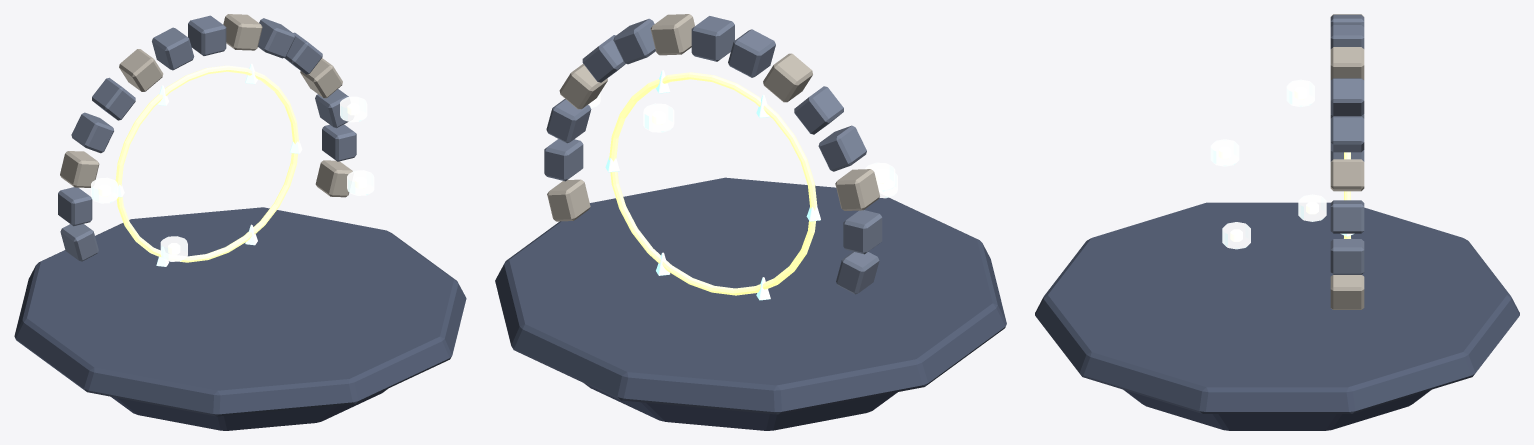
The model's file is dream_crescent_arch.glb.
The picture shows the model from 3 angles, left to right: view 1: azimuth 30°, elevation 25°; view 2: azimuth 150°, elevation 25°; view 3: azimuth 270°, elevation 25°; orthographic projection. The views are drawn at different scales.
Visible parts, largest first — view 1: DreamArchRoot_Merged, CrescentArch_Merged, DreamRing_Merged; view 2: DreamArchRoot_Merged, CrescentArch_Merged, DreamRing_Merged; view 3: DreamArchRoot_Merged, CrescentArch_Merged.
Part boxes in pixels (x1,y1,x2,y2): DreamArchRoot_Merged: (14, 96, 466, 430); CrescentArch_Merged: (58, 14, 356, 261); DreamRing_Merged: (115, 63, 302, 266); DreamArchRoot_Merged: (495, 92, 1006, 430); CrescentArch_Merged: (544, 14, 882, 294); DreamRing_Merged: (605, 70, 820, 300); DreamArchRoot_Merged: (1035, 79, 1519, 430); CrescentArch_Merged: (1330, 14, 1364, 309).
Size of the model in its own units: 7.94 by 6.36 by 8.31.
